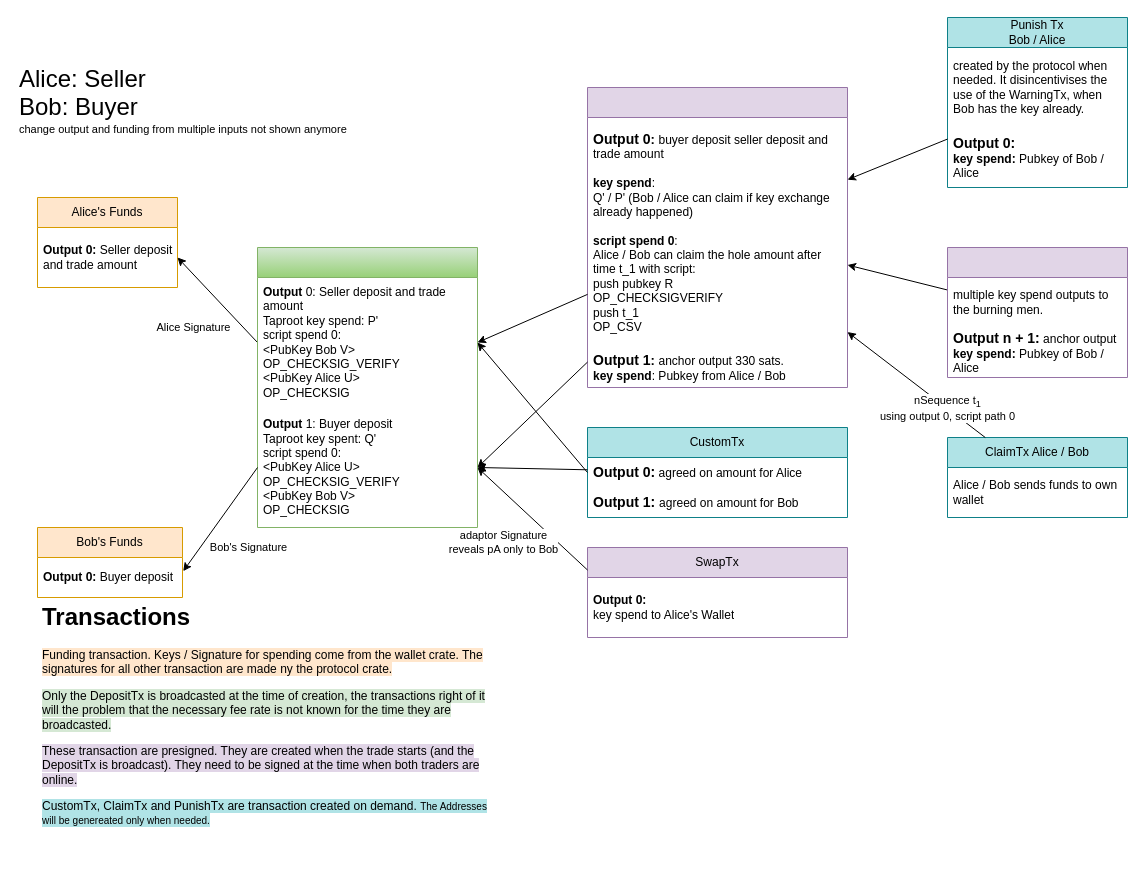
The diagram is 1145 pixels wide and 875 high, and some of its shapes have lost their labels. The box of each missing label's shape, as (x1, y1, x2, y2) in pixels:
Deposit Tx: (256, 246, 478, 528)
Redirect Tx Bob / Alice: (946, 246, 1128, 378)
Warning Tx Alice / Bob: (586, 86, 848, 388)
